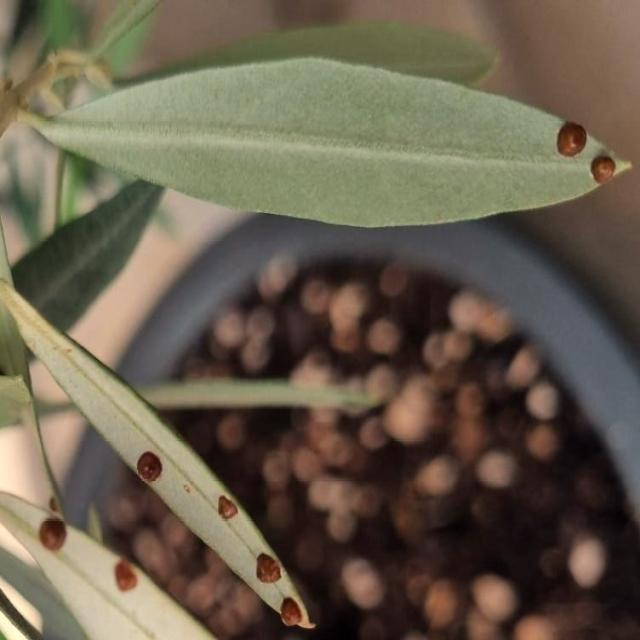Black Scale: (557, 121, 586, 158), (38, 516, 66, 551), (591, 148, 617, 185), (136, 451, 163, 486), (255, 551, 281, 583), (279, 595, 300, 625), (218, 496, 237, 520)
